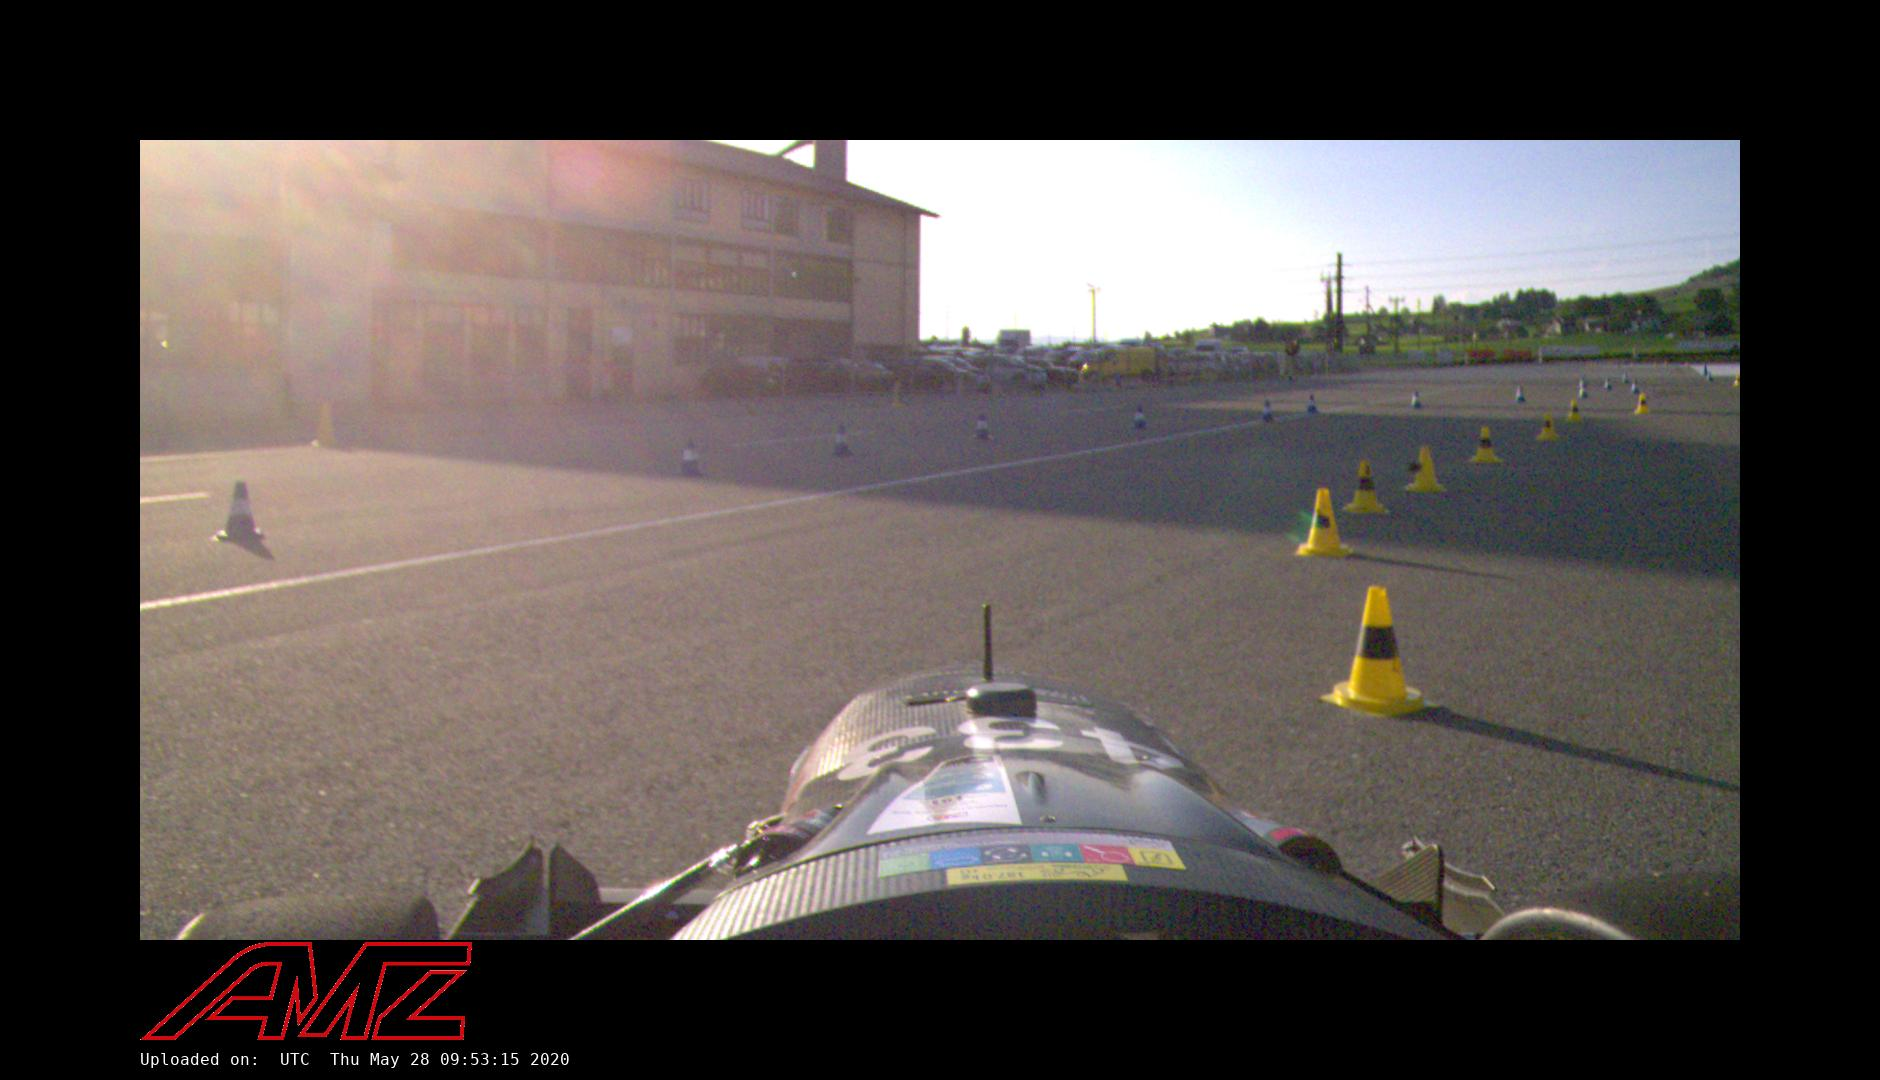blue_cone: (213, 481, 265, 543), (677, 444, 702, 478), (832, 425, 852, 455), (974, 416, 990, 441), (1131, 407, 1148, 430), (1262, 402, 1274, 422), (1409, 391, 1423, 410), (1307, 395, 1320, 413), (1515, 386, 1526, 403), (1630, 379, 1641, 394)
yellow_cone: (1320, 587, 1440, 718), (1296, 488, 1354, 559), (1344, 461, 1389, 513), (1406, 446, 1445, 492), (1472, 428, 1500, 462), (1537, 415, 1561, 441), (1566, 399, 1582, 422), (1635, 394, 1651, 413)
